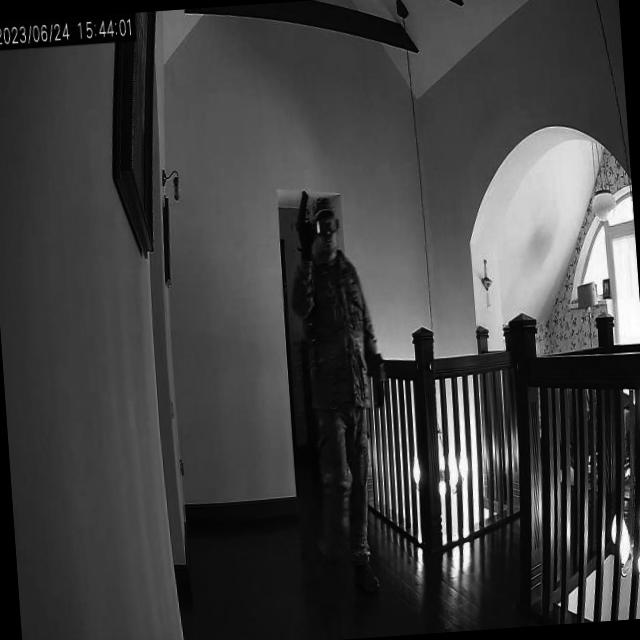gun: (294, 189, 312, 240)
person with a gun: (284, 186, 404, 603)
